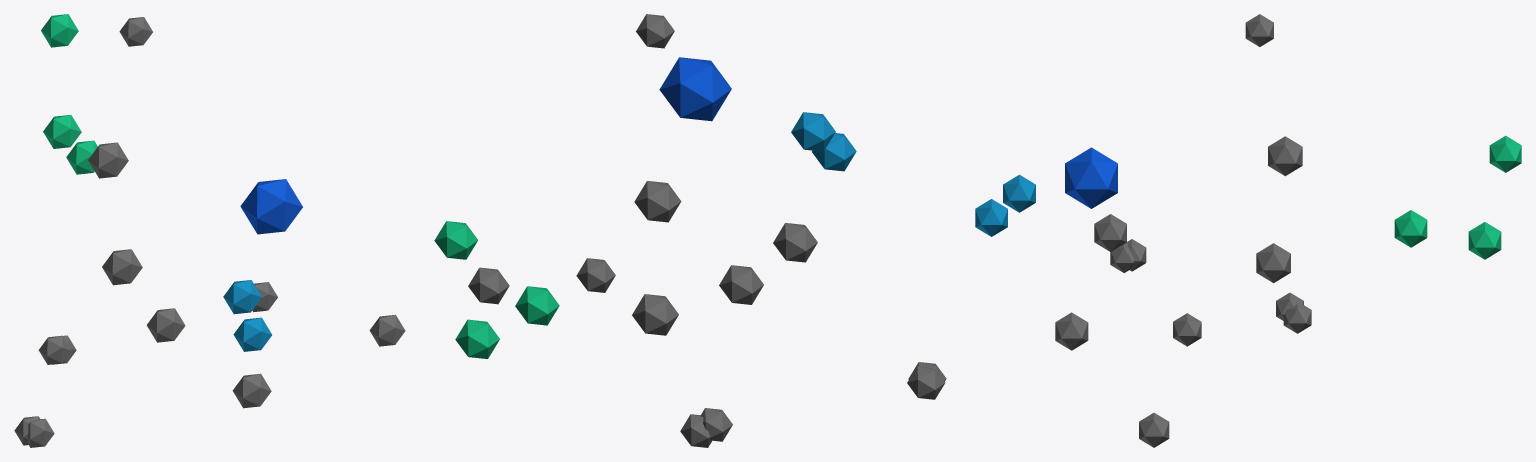
The picture shows the model from 3 angles, left to right: view 1: azimuth 30°, elevation 25°; view 2: azimuth 150°, elevation 25°; view 3: azimuth 270°, elevation 25°; orthographic projection. The views are drawn at different scales.
Parts seen in each view (by area): view 1: 06_09_05; view 2: 06_09_05; view 3: 06_09_05.
Part boxes in pixels (x1,y1,x2,y2): 06_09_05: [14, 14, 405, 447]; 06_09_05: [434, 14, 946, 447]; 06_09_05: [975, 14, 1521, 447].
Bounding box in the file's own units: 0.4819 × 0.403 × 0.587.
